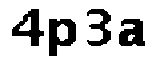3: (82, 1, 112, 51)
4: (6, 7, 46, 50)
a: (117, 13, 150, 54)
p: (48, 14, 81, 60)
